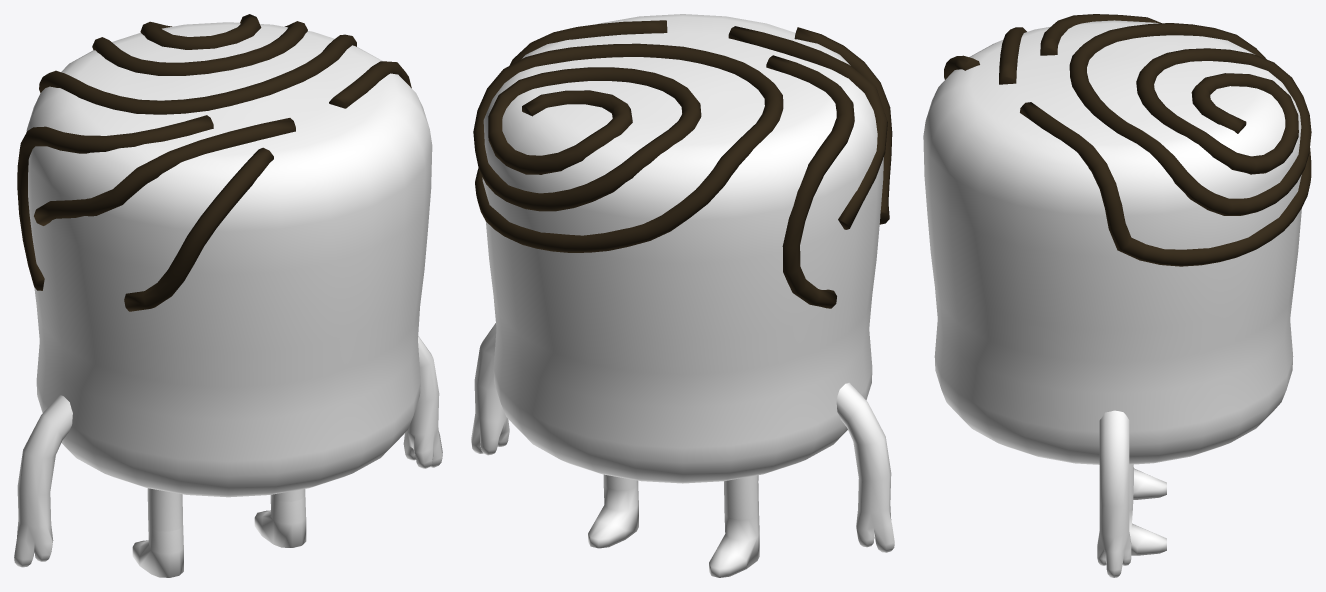
Rendered from MM01_Mort.fbx.
The picture shows the model from 3 angles, left to right: view 1: azimuth 30°, elevation 25°; view 2: azimuth 150°, elevation 25°; view 3: azimuth 270°, elevation 25°; orthographic projection. The views are drawn at different scales.
Visible parts, largest first — view 1: Connect_2; view 2: Connect_2; view 3: Connect_2.
Part boxes in pixels (x1=…): Connect_2: x1=14, y1=14, x2=442, y2=577; Connect_2: x1=471, y1=14, x2=894, y2=577; Connect_2: x1=923, y1=14, x2=1311, y2=577.
Bounding box in the file's own units: 24.88 × 26.75 × 20.83.
1 material, 1 textured.
